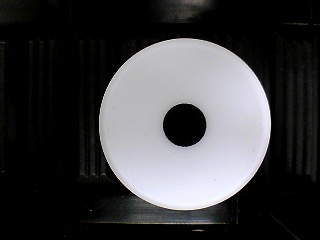BOHO: (97, 36, 272, 211)
